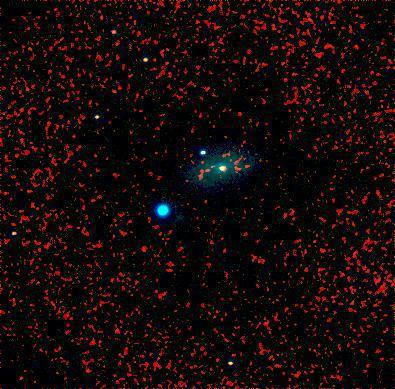star: (186, 148, 216, 178)
